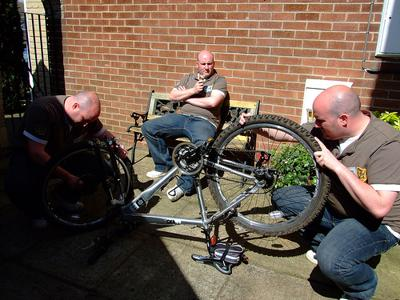person: (238, 82, 400, 300)
